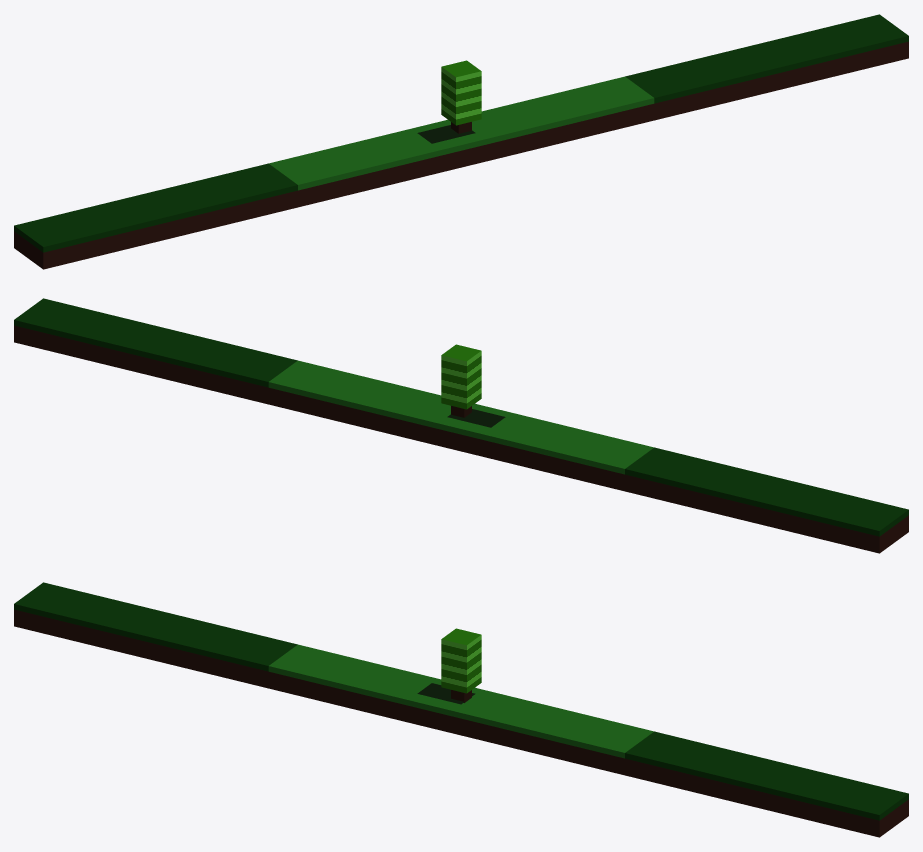
The model's file is Tree_Tall.fbx.
3 renders of one model, top to bottom at view 1: azimuth 30°, elevation 25°; view 2: azimuth 150°, elevation 25°; view 3: azimuth 330°, elevation 25°, orthographic.
Parts seen in each view (by area): view 1: RailLine.004, Tree1, Plane; view 2: RailLine.004, Tree1, Plane; view 3: RailLine.004, Tree1.
Boxes of the visible parts, x1,y1,x2,y2 form: RailLine.004: (14, 14, 908, 269); Tree1: (441, 60, 481, 133); Plane: (417, 125, 475, 143); RailLine.004: (14, 298, 908, 553); Tree1: (441, 344, 481, 417); Plane: (447, 409, 505, 427); RailLine.004: (14, 582, 908, 837); Tree1: (441, 628, 481, 702).
Bounding box in the file's own units: 5100 × 300 × 475.
